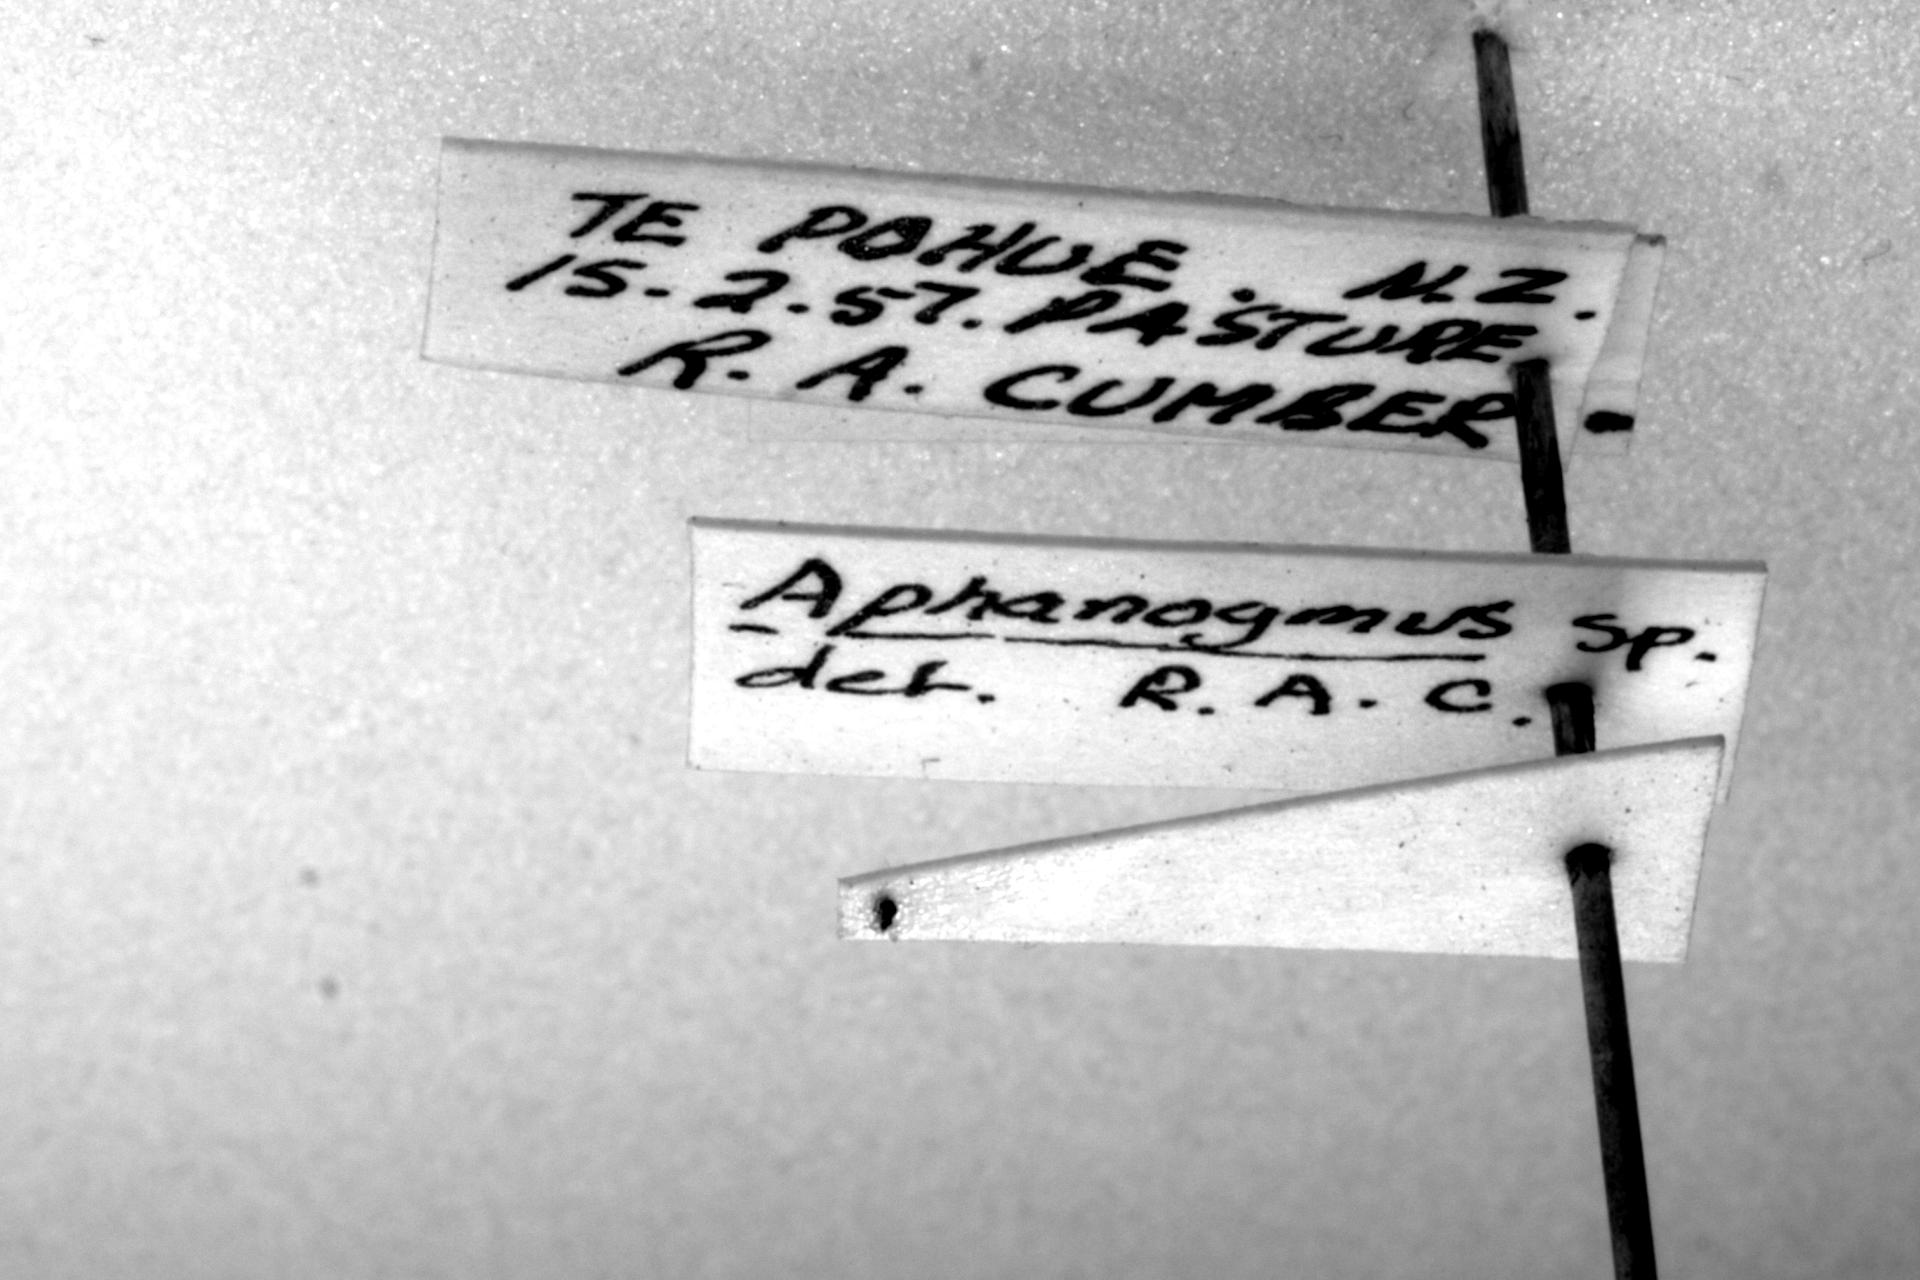hand_label: (424, 139, 1635, 458), (686, 521, 1766, 802)
